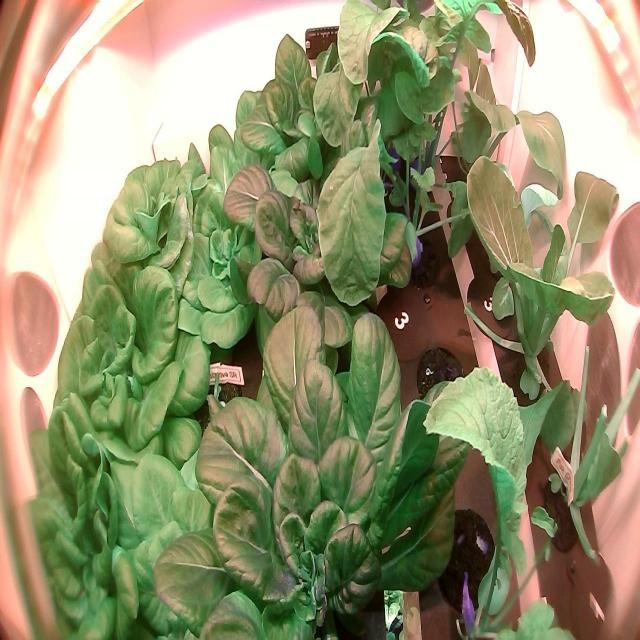Ready: (54, 234, 209, 466), (22, 394, 144, 640), (99, 139, 201, 330)
young: (138, 274, 484, 640), (219, 112, 429, 360), (230, 18, 407, 218), (107, 428, 259, 638), (178, 114, 276, 353), (193, 347, 249, 436)
